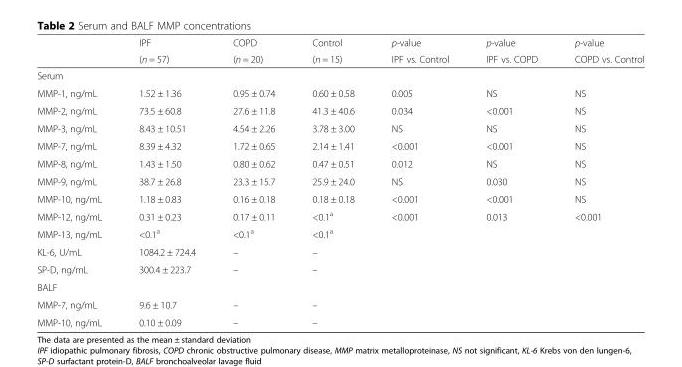table: (36, 36, 643, 327)
table column: (119, 36, 213, 327), (372, 36, 466, 327), (466, 36, 555, 327), (555, 36, 643, 327), (36, 36, 119, 327), (292, 36, 372, 327), (213, 36, 292, 327)
table column header: (36, 36, 643, 66)
table projected row header: (36, 66, 643, 84), (36, 278, 643, 295)
table row: (36, 66, 643, 84), (36, 101, 643, 119), (36, 136, 643, 154), (36, 154, 643, 172), (36, 206, 643, 224), (36, 224, 643, 242), (36, 242, 643, 260), (36, 260, 643, 278), (36, 295, 643, 313), (36, 84, 643, 101), (36, 119, 643, 136), (36, 172, 643, 189), (36, 189, 643, 206), (36, 278, 643, 295), (36, 50, 643, 66), (36, 36, 643, 50), (36, 313, 643, 327)
table spanning cell: (119, 36, 213, 66), (372, 36, 466, 66), (466, 36, 555, 66), (555, 36, 643, 66), (292, 36, 372, 66), (213, 36, 292, 66)
